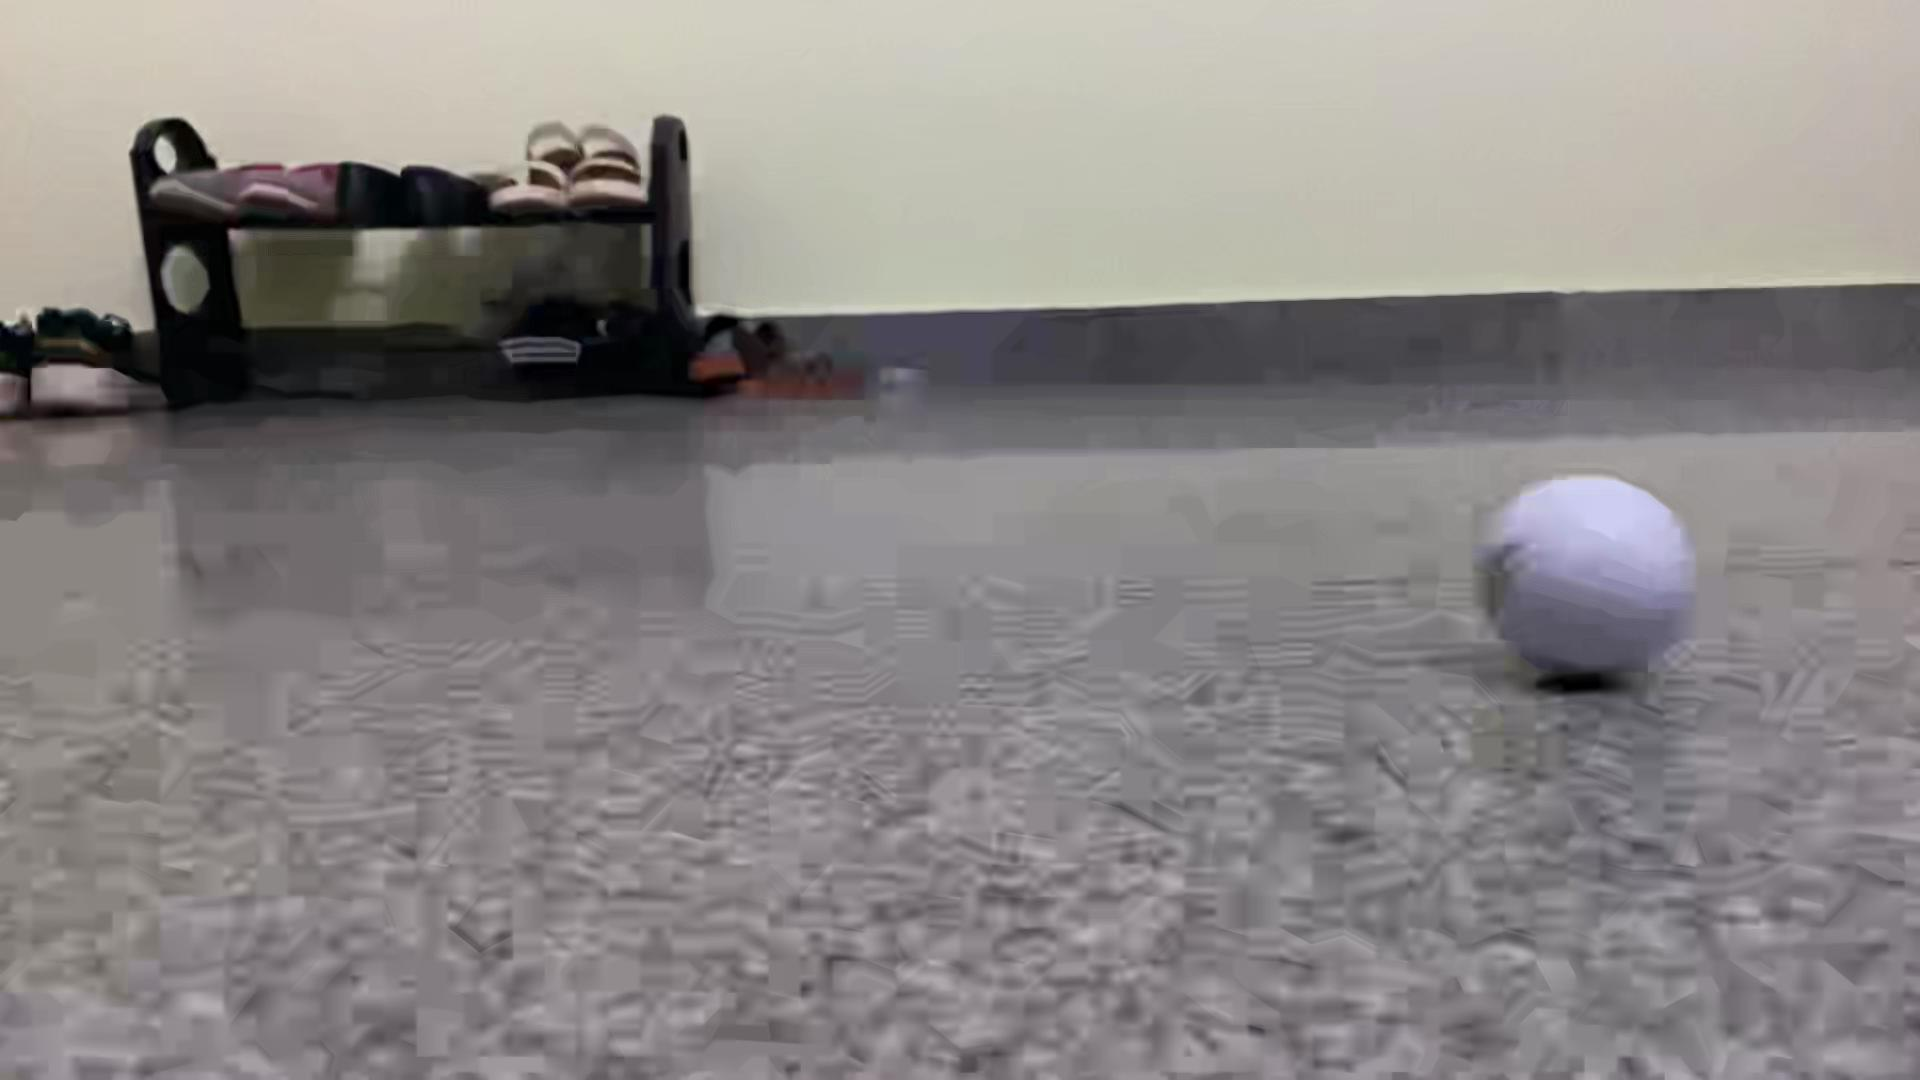golfball: (1473, 474, 1699, 681)
